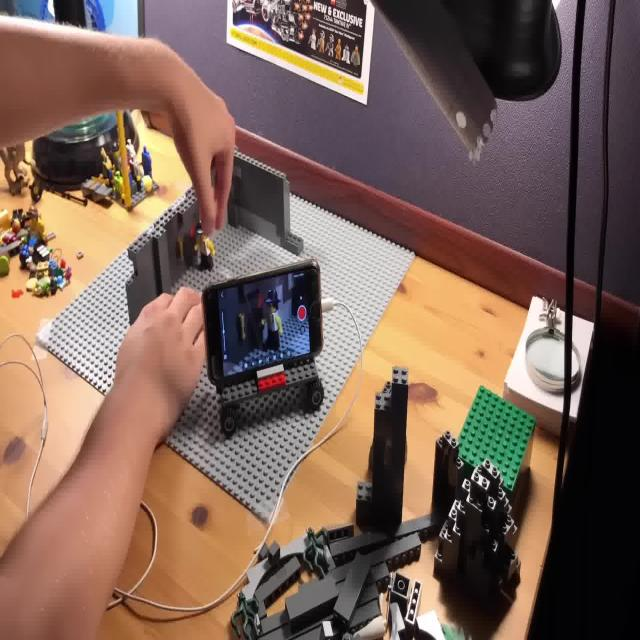4: (273, 313, 286, 336), (259, 312, 269, 328)
figure: (35, 190, 398, 527), (228, 452, 438, 639), (419, 386, 536, 633), (123, 179, 197, 314), (356, 365, 409, 537), (227, 148, 304, 240), (221, 356, 323, 411)
hand: (264, 289, 283, 349)
